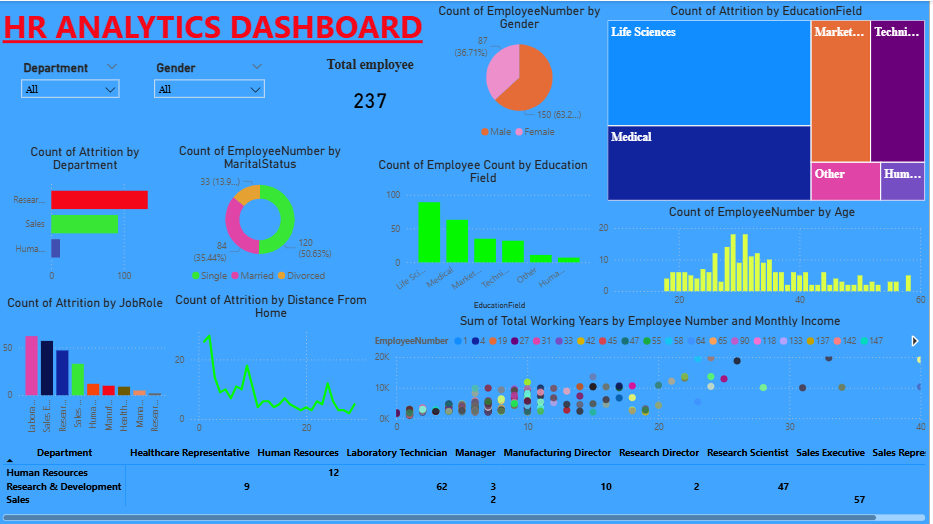

The dashboard page shown, as its layout file describes it:
{"tool":"powerbi","page":{"name":"Page 1","canvas":[1280,720],"ordinal":0},"visuals":[{"type":"card","title":"Total employee","fields":{"Values":["CountNonNull(WA_Fn-UseC_-HR-Employee-Attrition.EmployeeNumber)"]},"box":[420,76.7,181.7,95],"z":0},{"type":"barChart","fields":{"Category":["WA_Fn-UseC_-HR-Employee-Attrition.Department"],"Y":["CountNonNull(WA_Fn-UseC_-HR-Employee-Attrition.Attrition)"]},"box":[0,196.7,236.7,200],"z":1000},{"type":"columnChart","fields":{"Category":["WA_Fn-UseC_-HR-Employee-Attrition.JobRole"],"Y":["CountNonNull(WA_Fn-UseC_-HR-Employee-Attrition.Attrition)"]},"box":[0,405,236.7,200],"z":2000},{"type":"pieChart","fields":{"Y":["CountNonNull(WA_Fn-UseC_-HR-Employee-Attrition.EmployeeNumber)"],"Category":["WA_Fn-UseC_-HR-Employee-Attrition.Gender"]},"box":[598.3,3.3,235,196.7],"z":3000},{"type":"donutChart","fields":{"Y":["CountNonNull(WA_Fn-UseC_-HR-Employee-Attrition.EmployeeNumber)"],"Category":["WA_Fn-UseC_-HR-Employee-Attrition.MaritalStatus"]},"box":[236.7,195,245,201.7],"z":4000},{"type":"treemap","fields":{"Group":["WA_Fn-UseC_-HR-Employee-Attrition.EducationField"],"Values":["CountNonNull(WA_Fn-UseC_-HR-Employee-Attrition.Attrition)"]},"box":[833.3,3.3,446.7,276.7],"z":5000},{"type":"pivotTable","fields":{"Columns":["WA_Fn-UseC_-HR-Employee-Attrition.JobRole"],"Values":["CountNonNull(WA_Fn-UseC_-HR-Employee-Attrition.Attrition)"],"Rows":["WA_Fn-UseC_-HR-Employee-Attrition.Department"]},"box":[0,605,1280,115],"z":6000},{"type":"slicer","fields":{"Values":["WA_Fn-UseC_-HR-Employee-Attrition.Gender"]},"box":[203.3,76.7,171.7,95],"z":7000},{"type":"slicer","fields":{"Values":["WA_Fn-UseC_-HR-Employee-Attrition.Department"]},"box":[20,76.7,155,95],"z":8000},{"type":"clusteredColumnChart","title":"Count of Employee Count by Education Field","fields":{"Category":["WA_Fn-UseC_-HR-Employee-Attrition.EducationField"],"Y":["CountNonNull(WA_Fn-UseC_-HR-Employee-Attrition.EmployeeCount)"]},"box":[511.7,215,308.3,215],"z":9000},{"type":"lineChart","title":"Count of Attrition by Distance From Home","fields":{"Y":["CountNonNull(WA_Fn-UseC_-HR-Employee-Attrition.Attrition)"],"Category":["WA_Fn-UseC_-HR-Employee-Attrition.DistanceFromHome"]},"box":[236.7,400,275,205],"z":10000},{"type":"columnChart","fields":{"Category":["WA_Fn-UseC_-HR-Employee-Attrition.Age"],"Y":["CountNonNull(WA_Fn-UseC_-HR-Employee-Attrition.EmployeeNumber)"]},"box":[820,280,460,150],"z":11000},{"type":"scatterChart","title":"Sum of Total Working Years by Employee Number and Monthly Income","fields":{"Y":["WA_Fn-UseC_-HR-Employee-Attrition.MonthlyIncome"],"X":["Sum(WA_Fn-UseC_-HR-Employee-Attrition.TotalWorkingYears)"],"Series":["WA_Fn-UseC_-HR-Employee-Attrition.EmployeeNumber"]},"box":[511.7,430,768.3,175],"z":12000},{"type":"textbox","box":[0,0,598.3,76.7],"z":13000}]}

Visuals, with their boxes in screenshot pixels (x1, y1, x2, y2), scaled from the page's 1280x720 canvas onto the 933x524 screenshot:
"Total employee" card: [left=306, top=56, right=439, bottom=125]
barChart - WA_Fn-UseC_-HR-Employee-Attrition.Department x CountNonNull(WA_Fn-UseC_-HR-Employee-Attrition.Attrition): [left=0, top=143, right=173, bottom=289]
columnChart - WA_Fn-UseC_-HR-Employee-Attrition.JobRole x CountNonNull(WA_Fn-UseC_-HR-Employee-Attrition.Attrition): [left=0, top=295, right=173, bottom=440]
pieChart - CountNonNull(WA_Fn-UseC_-HR-Employee-Attrition.EmployeeNumber) x WA_Fn-UseC_-HR-Employee-Attrition.Gender: [left=436, top=2, right=607, bottom=146]
donutChart - CountNonNull(WA_Fn-UseC_-HR-Employee-Attrition.EmployeeNumber) x WA_Fn-UseC_-HR-Employee-Attrition.MaritalStatus: [left=173, top=142, right=351, bottom=289]
treemap - WA_Fn-UseC_-HR-Employee-Attrition.EducationField x CountNonNull(WA_Fn-UseC_-HR-Employee-Attrition.Attrition): [left=607, top=2, right=932, bottom=204]
pivotTable - WA_Fn-UseC_-HR-Employee-Attrition.JobRole x CountNonNull(WA_Fn-UseC_-HR-Employee-Attrition.Attrition): [left=0, top=440, right=932, bottom=523]
slicer - WA_Fn-UseC_-HR-Employee-Attrition.Gender: [left=148, top=56, right=273, bottom=125]
slicer - WA_Fn-UseC_-HR-Employee-Attrition.Department: [left=15, top=56, right=128, bottom=125]
"Count of Employee Count by Education Field" clusteredColumnChart: [left=373, top=156, right=598, bottom=313]
"Count of Attrition by Distance From Home" lineChart: [left=173, top=291, right=373, bottom=440]
columnChart - WA_Fn-UseC_-HR-Employee-Attrition.Age x CountNonNull(WA_Fn-UseC_-HR-Employee-Attrition.EmployeeNumber): [left=598, top=204, right=932, bottom=313]
"Sum of Total Working Years by Employee Number and Monthly Income" scatterChart: [left=373, top=313, right=932, bottom=440]
textbox: [left=0, top=0, right=436, bottom=56]
